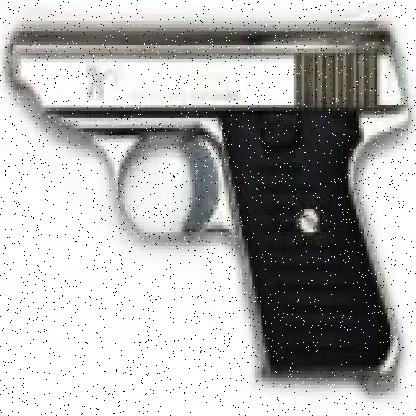pistol: (8, 24, 408, 388)
